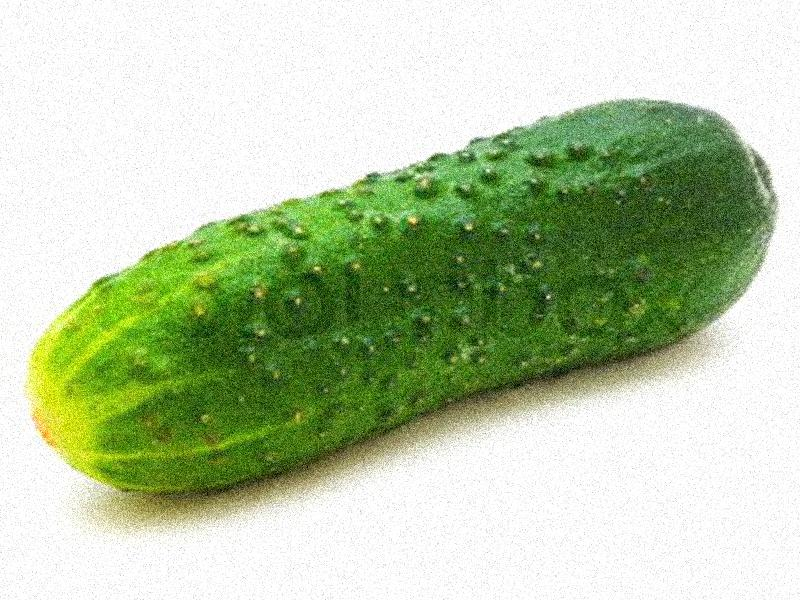Cucumber: (25, 98, 772, 494)
